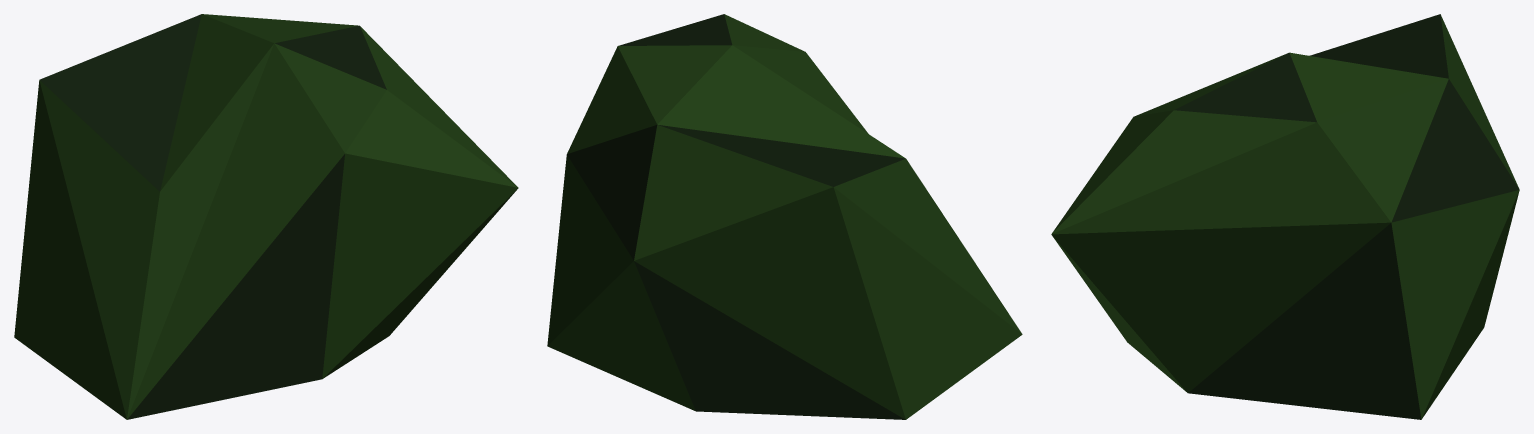
The model's file is Plant_M2_4.fbx.
The picture shows the model from 3 angles, left to right: view 1: azimuth 30°, elevation 25°; view 2: azimuth 150°, elevation 25°; view 3: azimuth 270°, elevation 25°; orthographic projection. The views are drawn at different scales.
Parts seen in each view (by area): view 1: Plant_M2_4; view 2: Plant_M2_4; view 3: Plant_M2_4.
Boxes of the visible parts, x1=… form: Plant_M2_4: x1=14, y1=14, x2=518, y2=419; Plant_M2_4: x1=547, y1=14, x2=1022, y2=419; Plant_M2_4: x1=1051, y1=14, x2=1519, y2=419.
Size of the model in its own units: 47.08 by 35.45 by 49.58.
